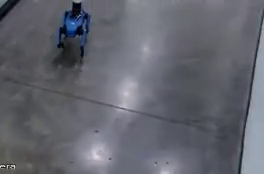robot dog: (55, 1, 91, 62)
